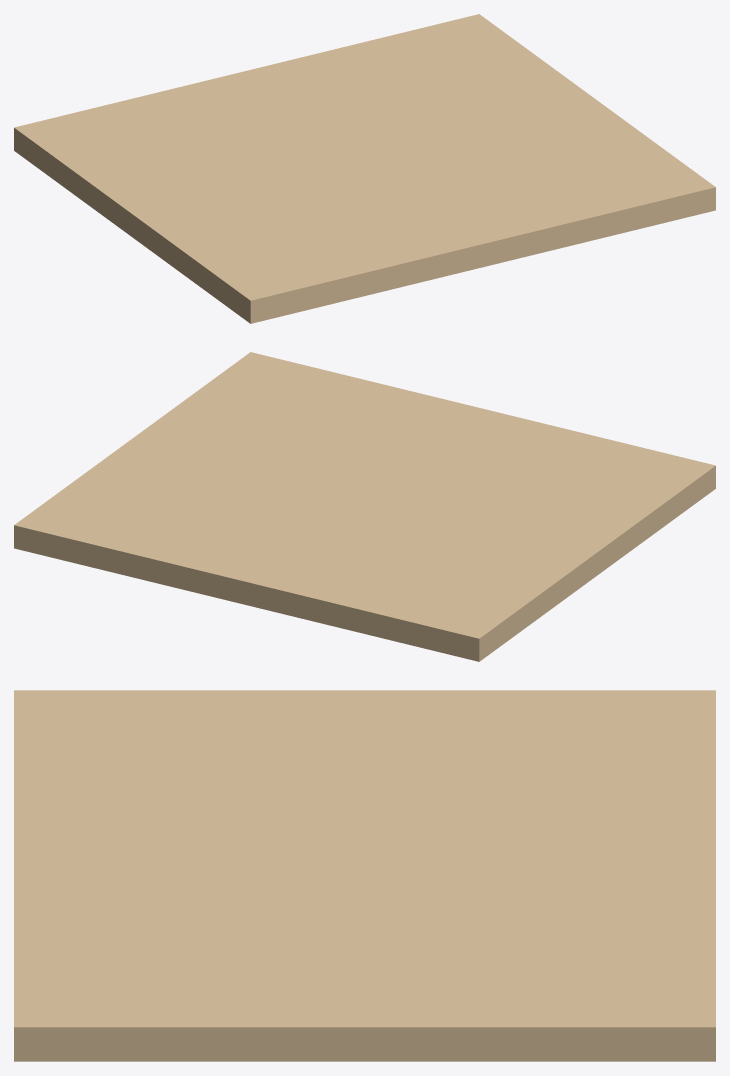
Rendered from sliding-glass-door.glb.
3 renders of one model, top to bottom at view 1: azimuth 30°, elevation 25°; view 2: azimuth 150°, elevation 25°; view 3: azimuth 270°, elevation 25°, orthographic. The views are drawn at different scales.
Visible parts, largest first — view 1: world; view 2: world; view 3: world.
Boxes of the visible parts, x1,y1,x2,y2 form: world: (14,14,715,323); world: (14,352,715,661); world: (14,690,715,1061).
Bounding box in the file's own units: 2.1 × 0.12 × 1.85.
